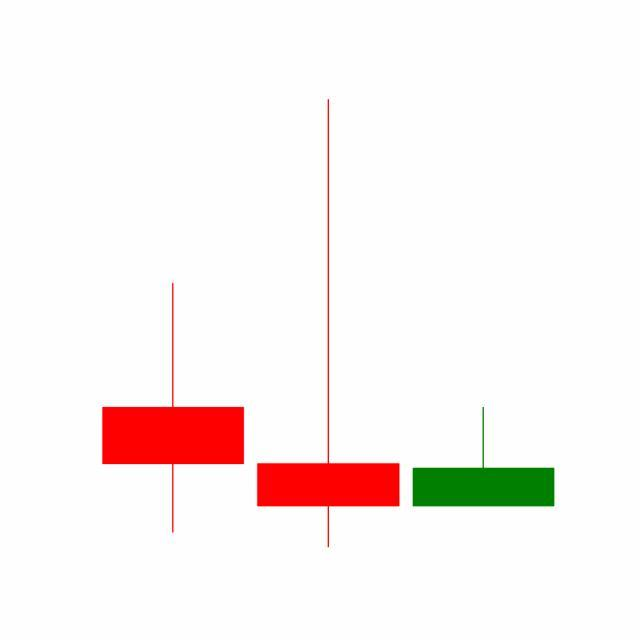Gravestone Doji: (406, 406, 562, 508)
